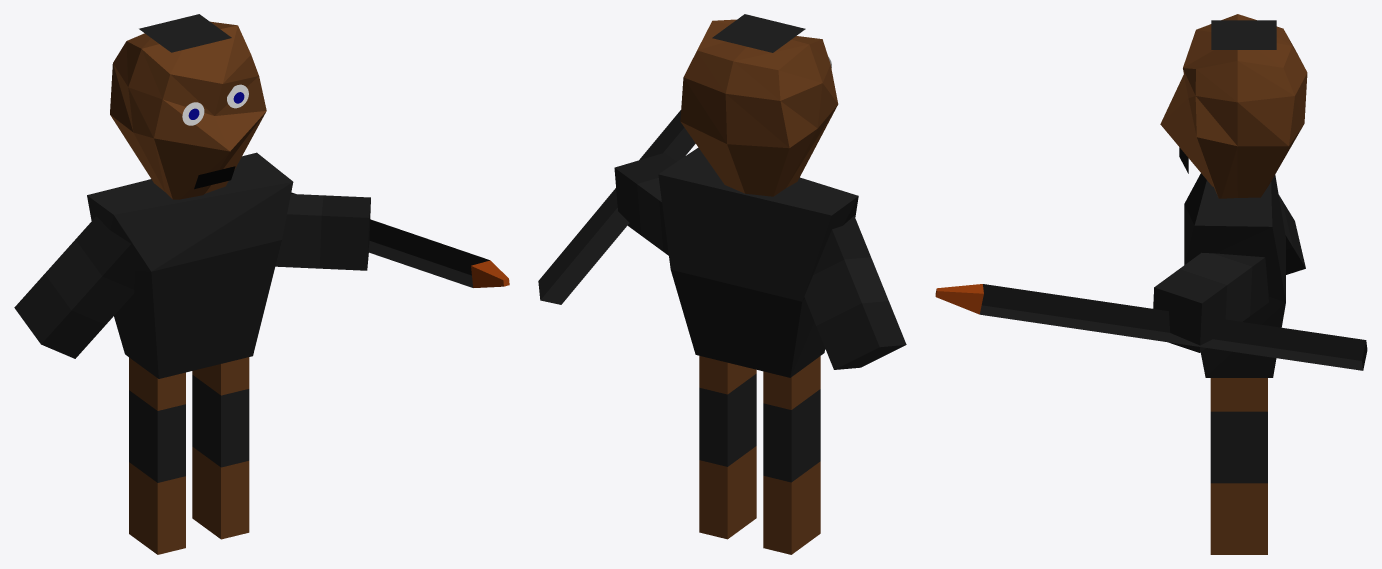
File: spearman3f.obj
The picture shows the model from 3 angles, left to right: view 1: azimuth 30°, elevation 25°; view 2: azimuth 150°, elevation 25°; view 3: azimuth 270°, elevation 25°; orthographic projection.
Visible parts, largest first — view 1: Cube.001, Cube, Cube.004, Cube.005, Cube.003, Cube.002, Cube.007, Plane.002; view 2: Cube.001, Cube, Cube.004, Cube.005, Cube.003, Cube.007, Cube.002, Plane.002; view 3: Cube, Cube.007, Cube.005, Cube.001, Cube.002, Plane.002, Cube.003.
Part boxes in pixels (<box>): Cube.001: <box>87,152,293,378</box>; Cube: <box>110,21,266,199</box>; Cube.004: <box>129,357,185,554</box>; Cube.005: <box>192,357,249,539</box>; Cube.003: <box>14,216,134,358</box>; Cube.002: <box>275,194,370,270</box>; Cube.007: <box>291,192,509,287</box>; Plane.002: <box>139,14,231,52</box>; Cube.001: <box>658,147,858,377</box>; Cube: <box>680,19,838,196</box>; Cube.004: <box>763,356,820,554</box>; Cube.005: <box>699,356,756,539</box>; Cube.003: <box>804,216,906,369</box>; Cube.007: <box>538,110,695,304</box>; Cube.002: <box>614,153,676,255</box>; Plane.002: <box>712,14,805,52</box>; Cube: <box>1160,14,1307,198</box>; Cube.007: <box>935,284,1367,370</box>; Cube.005: <box>1210,378,1267,554</box>; Cube.001: <box>1184,173,1285,377</box>; Cube.002: <box>1153,252,1268,352</box>; Plane.002: <box>1211,20,1276,49</box>; Cube.003: <box>1278,195,1305,274</box>.
Size of the model in its own units: 3.95 by 5.87 by 4.62.
